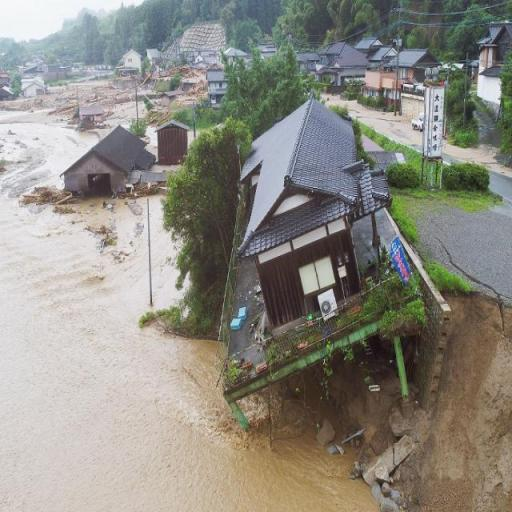flood: (0, 109, 381, 512), (326, 94, 423, 152), (443, 143, 512, 179)
house: (246, 176, 364, 346), (54, 120, 151, 199), (145, 116, 194, 164), (474, 33, 508, 73), (326, 42, 369, 72), (398, 50, 432, 78), (205, 69, 226, 100), (122, 46, 144, 71), (22, 79, 48, 99), (359, 33, 383, 52), (375, 46, 395, 61)
